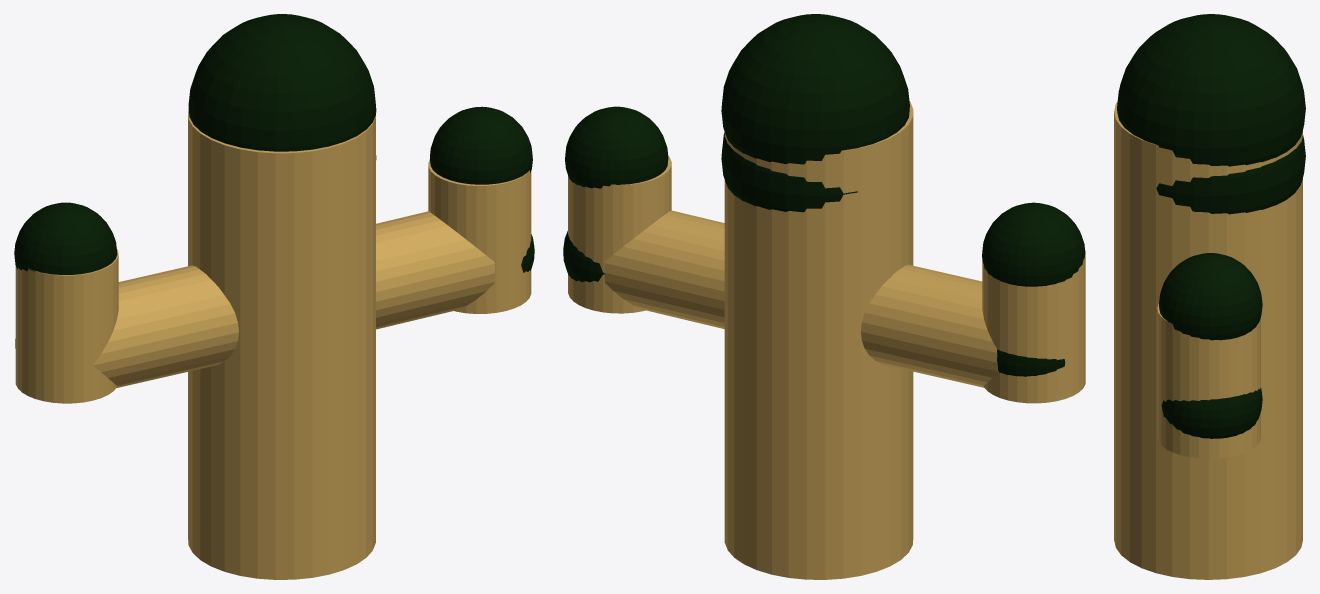
The model's file is cacti.obj.
The picture shows the model from 3 angles, left to right: view 1: azimuth 30°, elevation 25°; view 2: azimuth 150°, elevation 25°; view 3: azimuth 270°, elevation 25°; orthographic projection.
Parts seen in each view (by area): view 1: Cylinder.001_Cylinder.016, Cylinder_Cylinder.015, Sphere.001, Cylinder.005_Cylinder.000, Cylinder.004_Cylinder.019, Cylinder.003_Cylinder.018, Cylinder.006_Cylinder.001, Sphere.006, Sphere.005; view 2: Cylinder.001_Cylinder.016, Cylinder_Cylinder.015, Sphere.001, Cylinder.004_Cylinder.019, Cylinder.005_Cylinder.000, Cylinder.003_Cylinder.018, Cylinder.006_Cylinder.001, Sphere.005, Sphere.006, Sphere, Sphere.004, Sphere.003; view 3: Cylinder.001_Cylinder.016, Cylinder_Cylinder.015, Sphere.001, Cylinder.006_Cylinder.001, Sphere.006, Sphere, Sphere.003.
Boxes of the visible parts, x1,y1,x2,y2 form: Cylinder.001_Cylinder.016: (188,110,375,579); Cylinder_Cylinder.015: (188,161,375,536); Sphere.001: (188,14,376,151); Cylinder.005_Cylinder.000: (15,248,118,403); Cylinder.004_Cylinder.019: (93,265,238,387); Cylinder.003_Cylinder.018: (376,211,495,329); Cylinder.006_Cylinder.001: (428,159,531,313); Sphere.006: (430,106,532,184); Sphere.005: (14,202,117,274); Cylinder.001_Cylinder.016: (724,101,913,579); Cylinder_Cylinder.015: (724,161,912,537); Sphere.001: (721,14,909,164); Cylinder.004_Cylinder.019: (861,265,999,387); Cylinder.005_Cylinder.000: (982,251,1085,403); Cylinder.003_Cylinder.018: (604,210,724,328); Cylinder.006_Cylinder.001: (568,156,671,313); Sphere.005: (982,202,1085,286); Sphere.006: (565,106,668,188); Sphere: (721,132,857,212); Sphere.004: (997,349,1065,376); Sphere.003: (563,231,604,282); Cylinder.001_Cylinder.016: (1114,102,1302,579); Cylinder_Cylinder.015: (1114,156,1302,536); Sphere.001: (1117,14,1305,166); Cylinder.006_Cylinder.001: (1157,303,1260,458); Sphere.006: (1159,253,1262,340); Sphere: (1156,135,1305,214); Sphere.003: (1161,388,1262,438).
Size of the model in its own units: 3.11 by 3.02 by 1.02.
